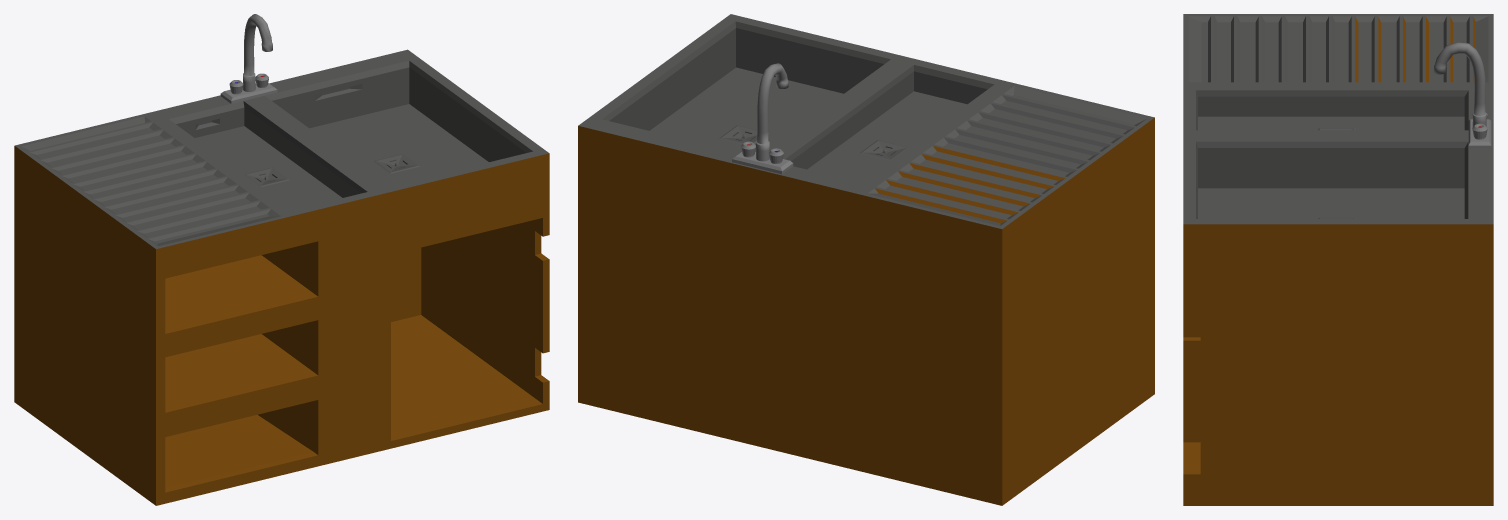
File: Sink.fbx
3 renders of one model, left to right at view 1: azimuth 30°, elevation 25°; view 2: azimuth 150°, elevation 25°; view 3: azimuth 270°, elevation 25°, orthographic. The views are drawn at different scales.
Visible parts, largest first — view 1: Cylinder.045; view 2: Cylinder.045; view 3: Cylinder.045.
Part boxes in pixels (x1,y1,x2,y2): Cylinder.045: (14,14,549,505); Cylinder.045: (578,14,1154,505); Cylinder.045: (1183,14,1493,505).
Bounding box in the file's own units: 161 × 134 × 101.
